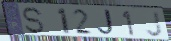1: (57, 7, 73, 36), (121, 10, 136, 37)
2: (70, 9, 93, 35)
J: (96, 9, 118, 37), (145, 11, 164, 38)
S: (22, 6, 47, 35)
